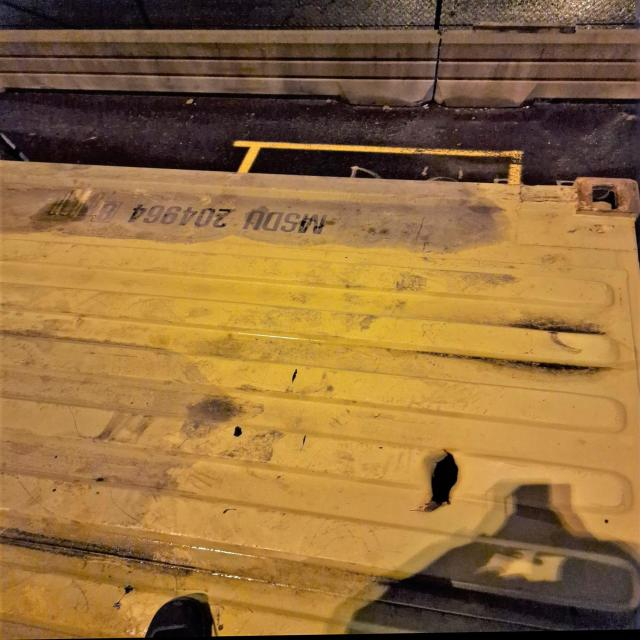hole: (411, 443, 477, 516), (140, 588, 221, 639)
